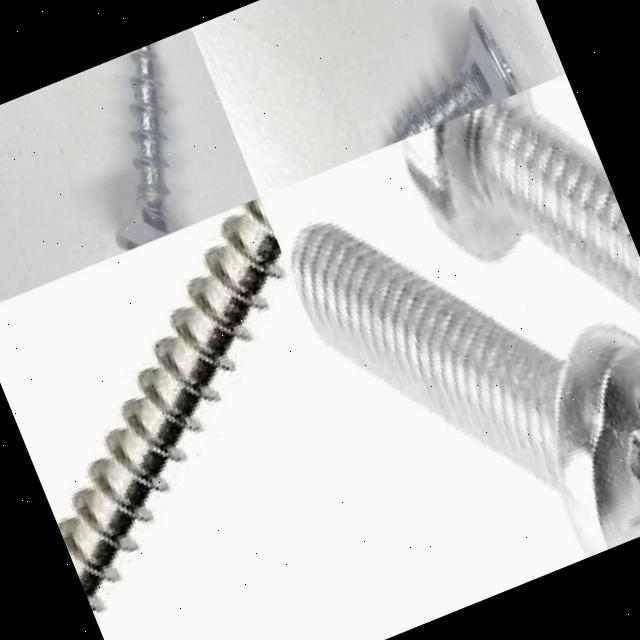Screw: (289, 220, 640, 559), (57, 197, 286, 604), (398, 87, 640, 320), (388, 5, 522, 145), (115, 44, 173, 250)
